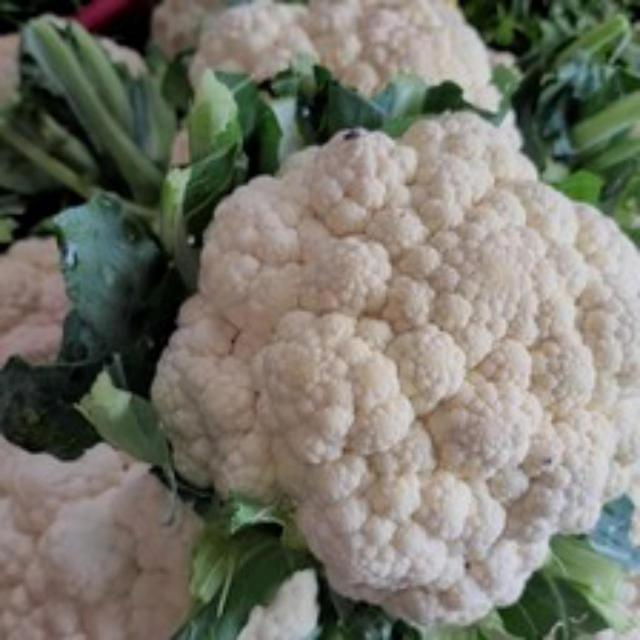cauliflower: (148, 100, 637, 637)
